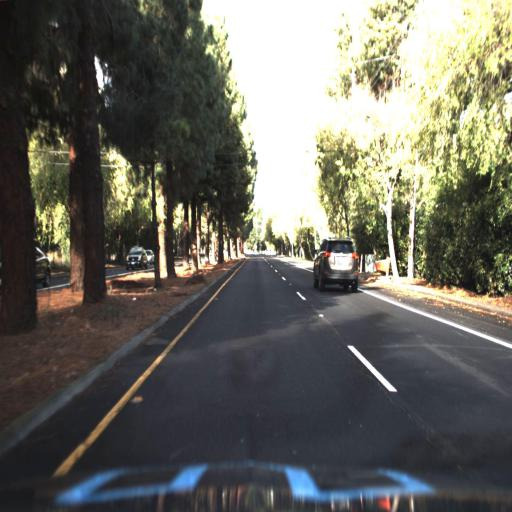car: (313, 236, 356, 291), (19, 244, 53, 291), (124, 241, 149, 276)
